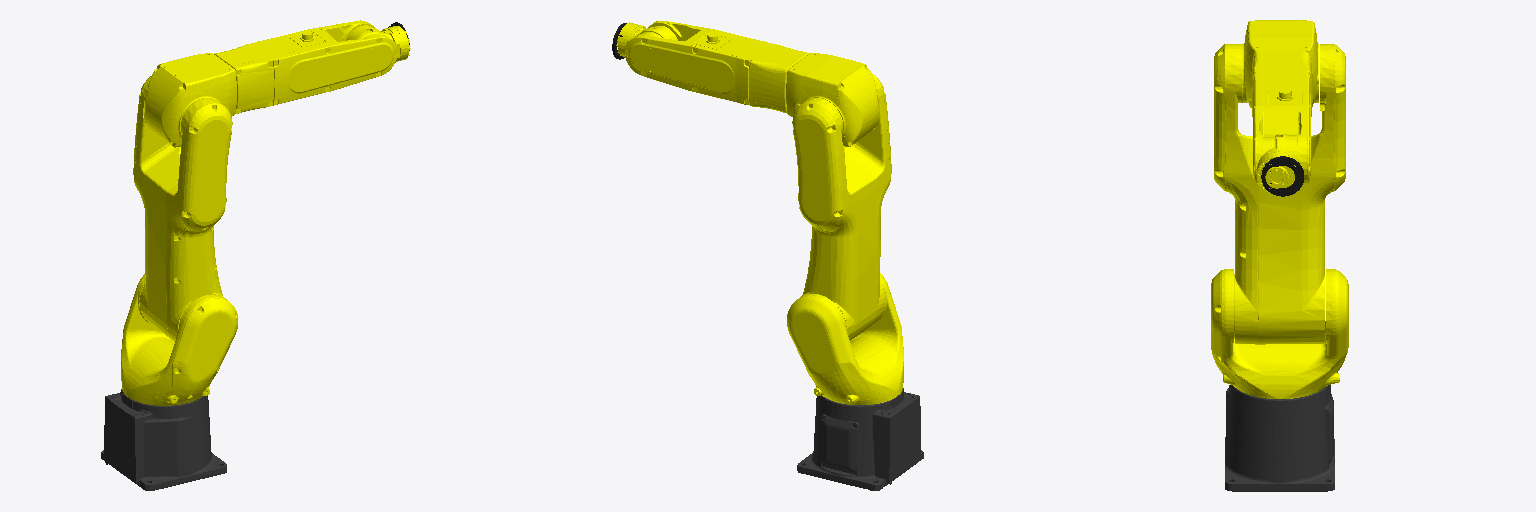
URDF robot description (Fanuc_LR_Mate_200iD_7L):
<?xml version="1.0"?>
<robot name="Fanuc_LR_Mate_200iD_7L">
  <material name="FanucGrey28">
    <color rgba="0.278 0.278 0.278 1" />
  </material>
  <material name="FanucYellow">
    <color rgba="1 1 0 1" />
  </material>
  <material name="FanucBlack">
    <color rgba="0.15 0.15 0.15 1" />
  </material>
  

	<link name="world">
	</link>
	<link name="BaseLink">
		<visual>
			<origin rpy="0.0 0.0 0.0" xyz="0.0 0.0 0.0" />
			<geometry>
				<mesh filename="meshes/BaseLink.stl" />
			</geometry>
			<material name="FanucGrey28">
			</material>
		</visual>
		<collision>
			<origin rpy="0.0 0.0 0.0" xyz="0.0 0.0 0.0" />
			<geometry>
				<mesh filename="meshes/BaseLink.stl" />
			</geometry>
			<material name="">
				<color rgba="1.0 1.0 1.0 1.0" />
			</material>
		</collision>
	</link>
	<link name="Link1">
		<visual>
			<origin rpy="0.0 0.0 0.0" xyz="0.0 0.0 -0.3300" />
			<geometry>
				<mesh filename="meshes/Link1.stl" />
			</geometry>
			<material name="FanucYellow">
			</material>
		</visual>
		<collision>
			<origin rpy="0.0 0.0 0.0" xyz="0.0 0.0 -0.3300" />
			<geometry>
				<mesh filename="meshes/Link1.stl" />
			</geometry>
			<material name="">
				<color rgba="1.0 1.0 1.0 1.0" />
			</material>
		</collision>
	</link>
	<link name="Link2">
		<visual>
			<origin rpy="0.0 0.0 0.0" xyz="-0.0500 0.0 -0.3300" />
			<geometry>
				<mesh filename="meshes/Link2.stl" />
			</geometry>
			<material name="FanucYellow">
			</material>
		</visual>
		<collision>
			<origin rpy="0.0 0.0 0.0" xyz="-0.0500 0.0 -0.3300" />
			<geometry>
				<mesh filename="meshes/Link2.stl" />
			</geometry>
			<material name="">
				<color rgba="1.0 1.0 1.0 1.0" />
			</material>
		</collision>
	</link>
	<link name="Link3">
		<visual>
			<origin rpy="0.0 0.0 0.0" xyz="-0.0500 0.0 -0.7700" />
			<geometry>
				<mesh filename="meshes/Link3.stl" />
			</geometry>
			<material name="FanucYellow">
			</material>
		</visual>
		<collision>
			<origin rpy="0.0 0.0 0.0" xyz="-0.0500 0.0 -0.7700" />
			<geometry>
				<mesh filename="meshes/Link3.stl" />
			</geometry>
			<material name="">
				<color rgba="1.0 1.0 1.0 1.0" />
			</material>
		</collision>
	</link>
	<link name="Link4">
		<visual>
			<origin rpy="0.0 -1.570796327 0.0" xyz="0.8050 0.0 -0.0500" />
			<geometry>
				<mesh filename="meshes/Link4.stl" />
			</geometry>
			<material name="FanucYellow">
			</material>
		</visual>
		<collision>
			<origin rpy="0.0 -1.570796327 0.0" xyz="0.8050 0.0 -0.0500" />
			<geometry>
				<mesh filename="meshes/Link4.stl" />
			</geometry>
			<material name="">
				<color rgba="1.0 1.0 1.0 1.0" />
			</material>
		</collision>
	</link>
	<link name="Link5">
		<visual>
			<origin rpy="0.0 -1.570796327 0.0" xyz="0.8050 0.0 -0.4700" />
			<geometry>
				<mesh filename="meshes/Link5.stl" />
			</geometry>
			<material name="FanucYellow">
			</material>
		</visual>
		<collision>
			<origin rpy="0.0 -1.570796327 0.0" xyz="0.8050 0.0 -0.4700" />
			<geometry>
				<mesh filename="meshes/Link5.stl" />
			</geometry>
			<material name="">
				<color rgba="1.0 1.0 1.0 1.0" />
			</material>
		</collision>
	</link>
	<link name="Link6">
		<visual>
			<origin rpy="0.0 -1.570796327 0.0" xyz="0.8050 0.0 -0.5500" />
			<geometry>
				<mesh filename="meshes/Link6.stl" />
			</geometry>
			<material name="FanucBlack">
			</material>
		</visual>
		<collision>
			<origin rpy="0.0 -1.570796327 0.0" xyz="0.8050 0.0 -0.5500" />
			<geometry>
				<mesh filename="meshes/Link6.stl" />
			</geometry>
			<material name="">
				<color rgba="1.0 1.0 1.0 1.0" />
			</material>
		</collision>
	</link>
	<!-- <link name="EffectorLink">
		<visual>
			<origin rpy="0 -0.0 0" xyz="-0.005 -0.08 -0.02" />
			<geometry>
				<mesh filename="meshes/Camera.stl" />
			</geometry>
			<material name="FanucGrey28">
			</material>
		</visual>
		<collision>
			<origin rpy="0 -0 0" xyz="-0.005 -0.08 -0.02" />
			<geometry>
				<mesh filename="meshes/Camera.stl" />
			</geometry>
		</collision>
	</link> -->
	
  	<joint name ="world1" type = "fixed">
		<parent link = "world"/>
		<child link = "BaseLink"/>
	</joint>
	<joint name="Joint1" type="revolute">
		<axis xyz="0.0 0.0 1.0" />
		<parent link="BaseLink" />
		<child link="Link1" />
		<origin xyz="0.0 0.0 0.3300" />
		<limit effort="0" lower="-2.9" upper="2.9" velocity="6.3" acceleration="26" jerk="220"/>
	</joint>
	<joint name="Joint2" type="revolute">
		<axis xyz="0.0 1.0 0.0" />
		<parent link="Link1" />
		<child link="Link2" />
		<origin xyz="0.0500 0.0 0.0" />
		<limit effort="0" lower="-1.7" upper="2.5" velocity="5.3" acceleration="22" jerk="185"/>
	</joint>
	<joint name="Joint3" type="revolute">
		<axis xyz="0.0 -1.0 0.0" />
		<parent link="Link2" />
		<child link="Link3" />
		<origin xyz="0.0 0.0 0.4400" rpy="0.0 0.0 0.0" />
        <limit effort="0" lower="-2.4" upper="4.8" velocity="7.0" acceleration="29" jerk="245"/>
	</joint>
	<joint name="Joint4" type="revolute">
		<axis xyz="0.0 0.0 -1.0" />
		<parent link="Link3" />
		<child link="Link4" />
		<origin rpy="0.0 1.570796327 0.0" xyz="0.0 0.0 0.0350" />
		<limit effort="0" lower="-3.3" upper="3.3" velocity="9.4" acceleration="39" jerk="328"/>
	</joint>
	<joint name="Joint5" type="revolute">
		<axis xyz="0.0 -1.0 0.0" />
		<parent link="Link4" />
		<child link="Link5" />
		<origin rpy="0.0 0.0 0.0" xyz="0.0 0.0 0.4200" />
		<limit effort="0" lower="-2.1" upper="2.1" velocity="9.3" acceleration="39" jerk ="325"/>
	</joint>
	<joint name="Joint6" type="revolute">
		<axis xyz="0.0 0.0 -1.0" />
		<parent link="Link5" />
		<child link="Link6" />
		<origin rpy="0.0 0.0 3.1415926" xyz="0.0 0.0 0.0800" />
		<limit effort="0" lower="-6.2" upper="6.2" velocity="17.2" acceleration="71" jerk="590" />
	</joint>
	<!-- <joint name="JointEffector" type="fixed">
		<parent link="Link6" />
		<child link="EffectorLink" />
		<origin rpy="0 0 0" xyz="0 0 0" />
  	</joint> -->

</robot>

--- Facts derived from the render (not from the file) ---
3 views of the same robot in one strip: view 1: azimuth 30°, elevation 25°; view 2: azimuth 150°, elevation 25°; view 3: azimuth 270°, elevation 25° (orthographic).
Robot: Fanuc_LR_Mate_200iD_7L — 8 links, 7 joints (6 revolute, 1 fixed); root link world; default pose: all joints at 0.
Visible links, largest first — view 1: Link2, Link4, Link1, BaseLink, Link3, Link5; view 2: Link2, Link4, Link1, BaseLink, Link3, Link5; view 3: Link2, BaseLink, Link1, Link4, Link3, Link5, Link6.
Link boxes in pixels (bbox=[...]): Link2: bbox=[133, 76, 232, 341]; Link4: bbox=[214, 20, 397, 113]; Link1: bbox=[121, 274, 237, 405]; BaseLink: bbox=[101, 389, 226, 490]; Link3: bbox=[144, 53, 236, 147]; Link5: bbox=[346, 25, 410, 61]; Link2: bbox=[792, 74, 891, 340]; Link4: bbox=[625, 21, 809, 113]; Link1: bbox=[787, 273, 903, 404]; BaseLink: bbox=[797, 388, 923, 490]; Link3: bbox=[786, 53, 879, 146]; Link5: bbox=[616, 22, 677, 56]; Link2: bbox=[1214, 44, 1345, 344]; BaseLink: bbox=[1225, 385, 1334, 491]; Link1: bbox=[1211, 269, 1348, 398]; Link4: bbox=[1251, 51, 1312, 182]; Link3: bbox=[1243, 20, 1318, 107]; Link5: bbox=[1257, 134, 1297, 192]; Link6: bbox=[1261, 156, 1303, 196].
Size in the robot's own frame: 0.653 by 0.235 by 0.8689 metres.
Meshes: 7 distinct files referenced, 7 mesh visuals loaded (7 binary STL).
